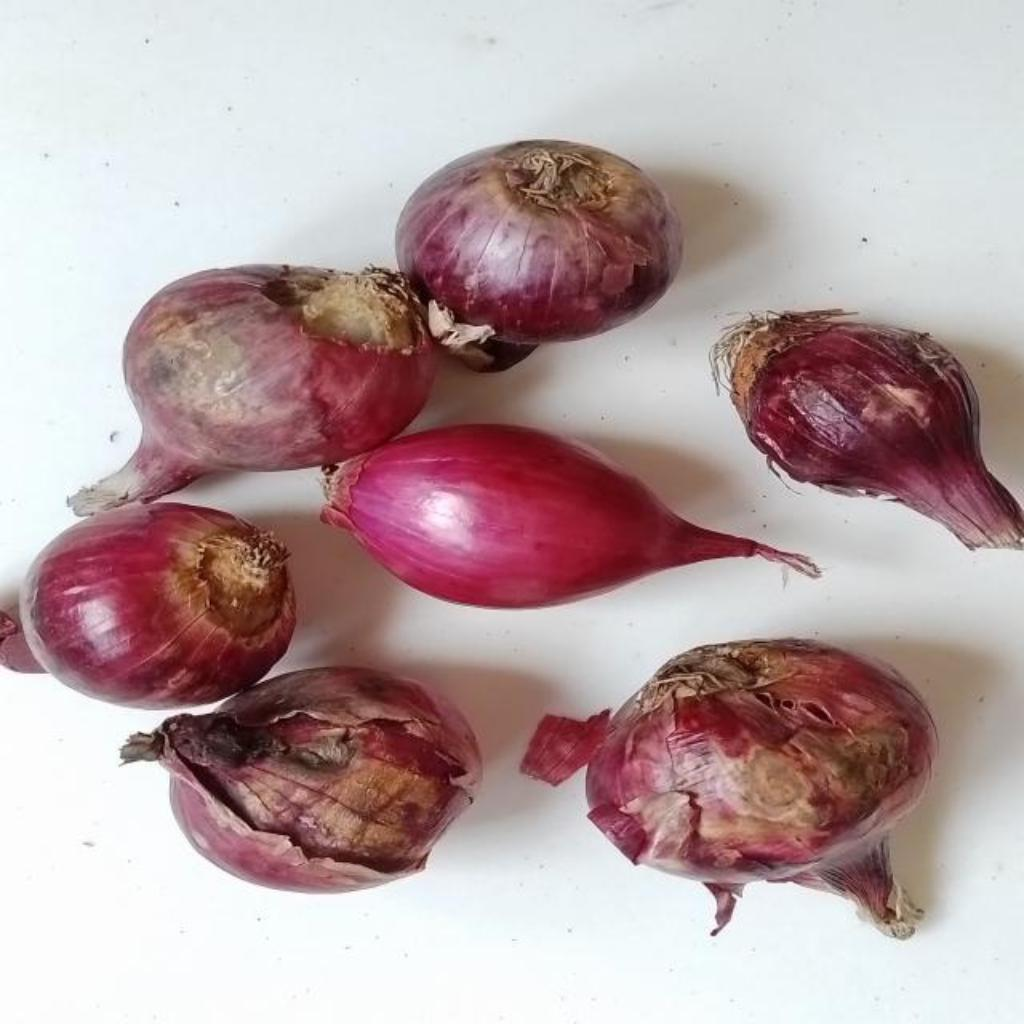Onion: (69, 264, 437, 516), (322, 424, 821, 609), (714, 310, 1024, 550), (397, 141, 683, 372), (19, 504, 296, 710)
